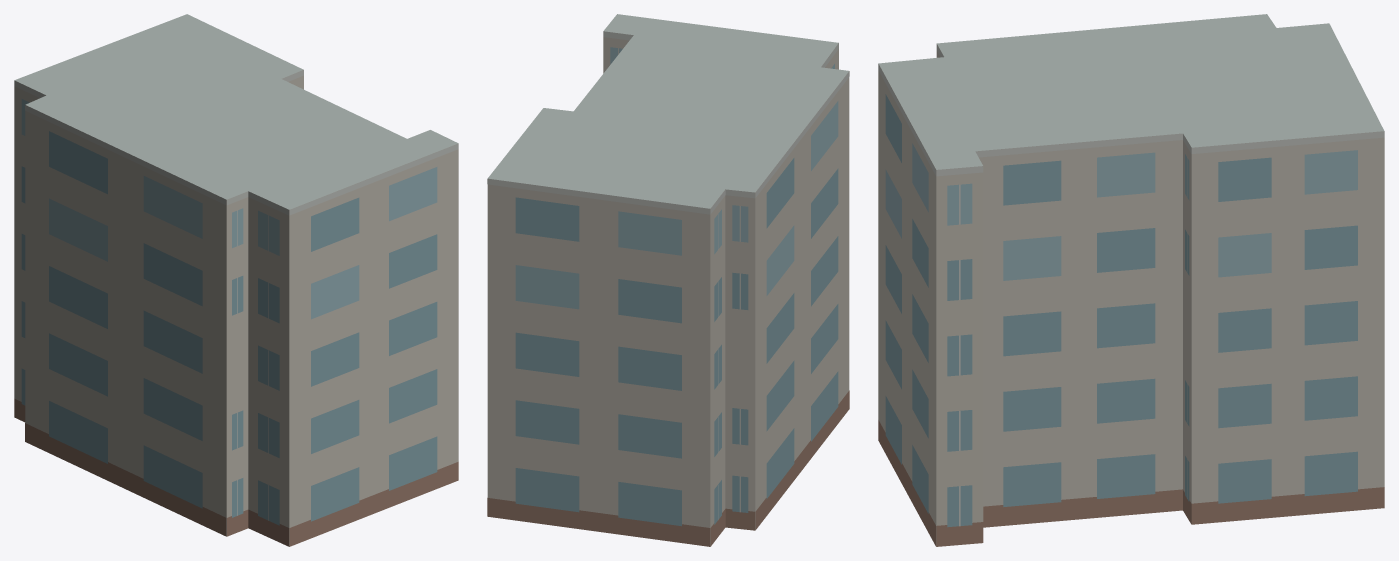
The model's file is survey-upis-32717843.glb.
3 renders of one model, left to right at view 1: azimuth 30°, elevation 25°; view 2: azimuth 150°, elevation 25°; view 3: azimuth 270°, elevation 25°, orthographic. The views are drawn at different scales.
Parts seen in each view (by area): view 1: survey-upis-32717843.tmp; view 2: survey-upis-32717843.tmp; view 3: survey-upis-32717843.tmp.
Boxes of the visible parts, bbox=[...] form: survey-upis-32717843.tmp: bbox=[14, 14, 458, 546]; survey-upis-32717843.tmp: bbox=[487, 14, 849, 546]; survey-upis-32717843.tmp: bbox=[878, 14, 1384, 546].
Bounding box in the file's own units: 12.61 × 14.2 × 17.29.
